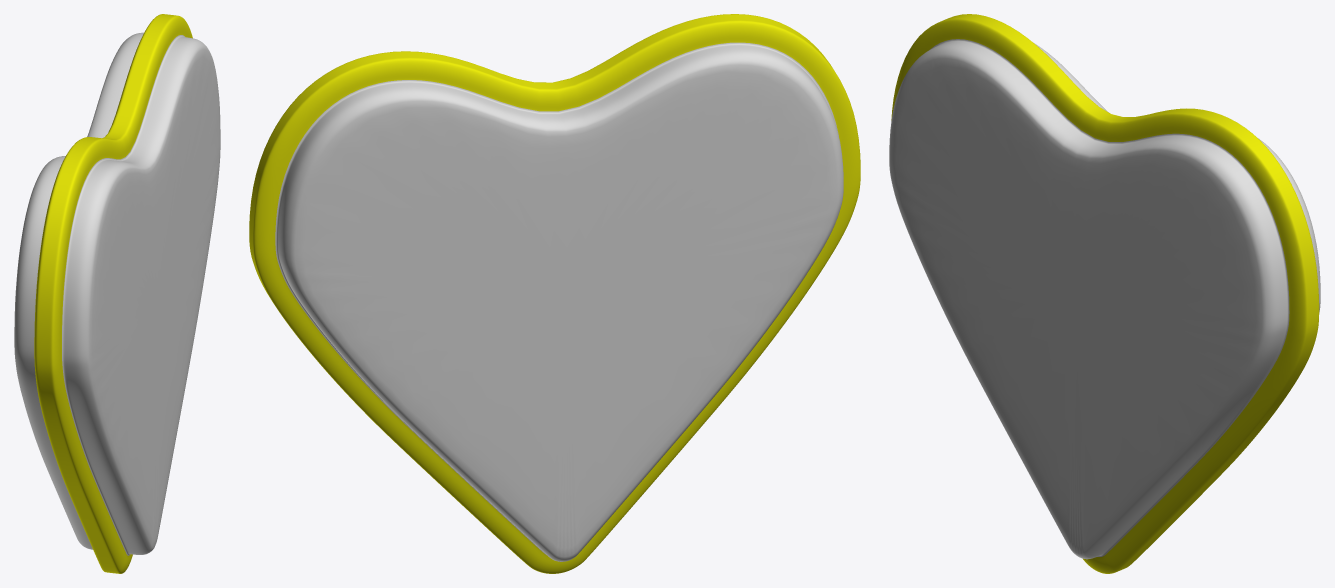
The model's file is Heart.fbx.
The picture shows the model from 3 angles, left to right: view 1: azimuth 30°, elevation 25°; view 2: azimuth 150°, elevation 25°; view 3: azimuth 270°, elevation 25°; orthographic projection. The views are drawn at different scales.
Visible parts, largest first — view 1: Heart; view 2: Heart; view 3: Heart.
Boxes of the visible parts, x1,y1,x2,y2 form: Heart: (14,14,220,573); Heart: (249,14,860,573); Heart: (889,14,1320,573).
Bounding box in the file's own units: 136 × 173 × 136.
